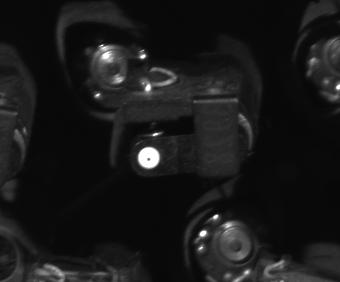fiber: (131, 141, 165, 174)
